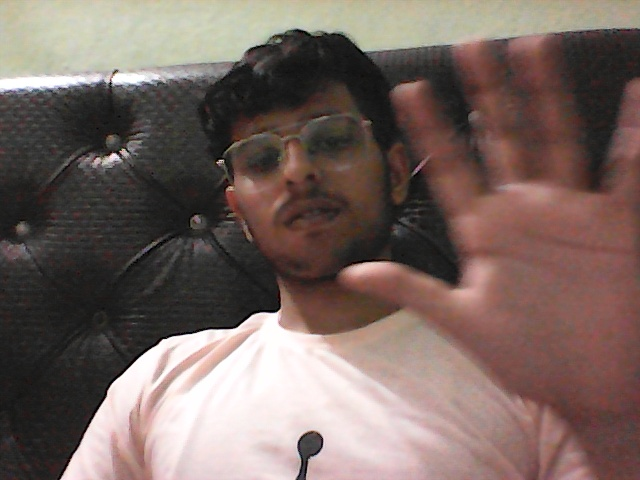hello: (316, 13, 640, 459)
